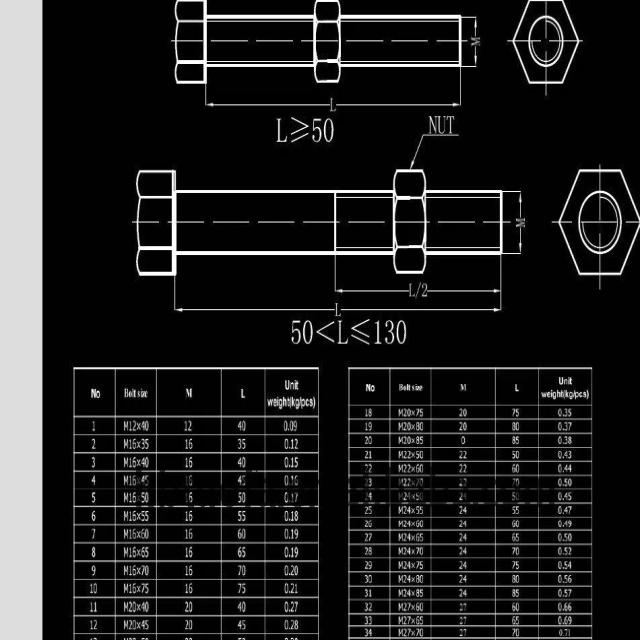marking_line: (173, 278, 505, 313), (204, 83, 463, 108), (333, 275, 505, 300), (503, 185, 526, 257), (462, 15, 479, 68)
numeric: (336, 320, 348, 346), (323, 118, 336, 142), (397, 319, 409, 345), (310, 116, 322, 141), (385, 317, 396, 344), (276, 118, 287, 144), (303, 318, 314, 344), (292, 318, 300, 346), (428, 114, 438, 134), (374, 320, 381, 346), (437, 113, 445, 135), (448, 116, 456, 134), (470, 37, 482, 46), (90, 473, 97, 487), (90, 456, 97, 469), (293, 492, 299, 504), (188, 545, 193, 559), (237, 545, 242, 559), (91, 419, 96, 432), (91, 491, 96, 504), (132, 546, 137, 559), (132, 564, 137, 577), (184, 474, 189, 487), (242, 564, 247, 577), (237, 601, 242, 614), (284, 564, 289, 577), (284, 438, 289, 450), (294, 438, 299, 450), (93, 583, 98, 595), (237, 511, 242, 523), (284, 492, 289, 504), (294, 475, 299, 487), (284, 528, 289, 540), (284, 546, 289, 558), (294, 546, 299, 558), (284, 582, 289, 594), (294, 601, 299, 613), (363, 464, 369, 474), (460, 435, 466, 445), (237, 438, 242, 449), (92, 439, 97, 450), (91, 511, 96, 522), (91, 529, 96, 540), (91, 565, 96, 576), (93, 620, 98, 631), (145, 528, 150, 539), (141, 565, 146, 576), (189, 529, 194, 540), (242, 528, 247, 539), (237, 583, 242, 594), (284, 602, 289, 613), (515, 463, 520, 474), (241, 621, 247, 630), (557, 492, 563, 501), (294, 456, 298, 469), (92, 545, 96, 558), (133, 509, 137, 522), (185, 509, 189, 522), (242, 600, 246, 613), (132, 420, 137, 430), (242, 439, 247, 449), (132, 528, 137, 538), (237, 620, 242, 630), (294, 565, 299, 575), (283, 620, 288, 630), (294, 620, 299, 630), (368, 422, 373, 432), (368, 602, 373, 612), (419, 463, 424, 473), (463, 464, 468, 474), (463, 546, 468, 556), (463, 574, 468, 584), (511, 506, 516, 516), (289, 420, 293, 432), (189, 457, 193, 469), (132, 457, 136, 469), (145, 456, 149, 468), (89, 601, 93, 613), (132, 492, 136, 504), (141, 547, 145, 559), (145, 564, 149, 576), (145, 601, 149, 613), (129, 600, 133, 612), (185, 564, 189, 576), (189, 491, 193, 503), (189, 510, 193, 522), (189, 564, 193, 576), (189, 582, 193, 594), (189, 601, 193, 613), (242, 475, 246, 487), (238, 492, 242, 504), (242, 492, 246, 504), (242, 510, 246, 522), (238, 528, 242, 540), (242, 547, 246, 559), (295, 510, 299, 522), (294, 528, 298, 540), (368, 436, 373, 445), (419, 408, 424, 417), (403, 464, 408, 473), (419, 450, 424, 459), (419, 492, 424, 501), (419, 547, 424, 556), (419, 561, 424, 570), (458, 464, 463, 473), (458, 561, 463, 570), (458, 575, 463, 584), (515, 505, 520, 514), (515, 628, 520, 637), (128, 420, 132, 431), (146, 420, 150, 431), (238, 420, 242, 431), (242, 420, 246, 431), (284, 420, 288, 431), (133, 438, 137, 449), (141, 438, 145, 449), (189, 438, 193, 449), (238, 457, 242, 468), (242, 456, 246, 467), (284, 457, 288, 468), (185, 457, 189, 468), (141, 474, 145, 485), (145, 475, 149, 486), (129, 492, 133, 503), (141, 492, 145, 503), (145, 492, 149, 503), (141, 510, 145, 521), (145, 510, 149, 521), (141, 528, 145, 539), (133, 583, 137, 594), (145, 583, 149, 594), (132, 602, 136, 613), (185, 528, 189, 539), (185, 582, 189, 593), (185, 601, 189, 612), (189, 475, 193, 486), (189, 619, 193, 630), (238, 476, 242, 487), (237, 565, 241, 576), (242, 583, 246, 594), (285, 475, 289, 486), (285, 510, 289, 521), (290, 547, 294, 558), (290, 583, 294, 594), (290, 601, 294, 612), (364, 602, 368, 613), (512, 450, 516, 461), (141, 421, 145, 431), (188, 420, 192, 430), (145, 439, 149, 449), (290, 457, 294, 467), (128, 458, 132, 468), (141, 457, 145, 467), (132, 475, 136, 485), (145, 547, 149, 557), (141, 602, 145, 612), (145, 620, 149, 630), (185, 619, 189, 629), (290, 566, 294, 576), (290, 620, 294, 630), (368, 409, 373, 417), (368, 463, 372, 473), (364, 507, 369, 515), (369, 532, 373, 542), (368, 560, 372, 570), (364, 588, 368, 598), (403, 435, 407, 445), (416, 463, 420, 473), (419, 506, 424, 514), (407, 506, 412, 514), (403, 505, 407, 515), (419, 520, 424, 528), (420, 532, 424, 542), (416, 602, 420, 612), (420, 602, 424, 612), (407, 627, 411, 637), (459, 421, 463, 431), (463, 421, 467, 431), (459, 477, 463, 487), (464, 478, 468, 488), (459, 491, 463, 501), (459, 518, 463, 528), (459, 532, 463, 542), (512, 422, 516, 432), (512, 463, 516, 473), (516, 408, 520, 418), (516, 421, 520, 431), (558, 421, 562, 431), (564, 435, 568, 445), (568, 435, 572, 445), (558, 532, 562, 542), (568, 533, 573, 541), (558, 546, 562, 556), (512, 560, 516, 570), (512, 574, 516, 584), (564, 574, 568, 584), (512, 615, 516, 625), (558, 602, 562, 612), (564, 602, 568, 612), (568, 602, 572, 612), (185, 491, 188, 504), (129, 438, 132, 450), (185, 438, 188, 450), (129, 474, 132, 486), (129, 564, 132, 576), (185, 546, 188, 558), (291, 510, 294, 522), (291, 528, 294, 540), (364, 422, 368, 431), (365, 450, 369, 459), (364, 478, 368, 487), (368, 478, 372, 487), (364, 492, 368, 501), (368, 492, 372, 501), (364, 561, 368, 570), (364, 575, 368, 584), (364, 616, 368, 625), (364, 628, 368, 637), (407, 408, 411, 417), (403, 422, 407, 431), (407, 422, 411, 431), (416, 422, 420, 431), (420, 436, 424, 445), (407, 436, 411, 445), (403, 478, 407, 487), (403, 451, 407, 460), (407, 464, 411, 473), (407, 450, 411, 459), (416, 478, 420, 487), (416, 533, 420, 542), (403, 533, 407, 542), (407, 547, 411, 556), (407, 561, 411, 570), (403, 561, 407, 570), (407, 575, 411, 584), (420, 588, 424, 597), (416, 589, 420, 598), (403, 588, 407, 597), (403, 602, 407, 611), (407, 602, 411, 611), (420, 616, 424, 625), (416, 616, 420, 625), (403, 616, 407, 625), (403, 628, 407, 637), (420, 628, 424, 637), (463, 408, 467, 417), (463, 506, 467, 515), (464, 561, 468, 570), (459, 588, 463, 597), (464, 588, 468, 597), (463, 603, 467, 612), (459, 616, 463, 625), (463, 628, 467, 637), (512, 435, 516, 444), (516, 436, 520, 445), (516, 477, 520, 486), (558, 408, 562, 417), (569, 408, 573, 417), (558, 436, 562, 445), (564, 422, 568, 431), (568, 422, 572, 431), (558, 450, 562, 459), (558, 464, 562, 473), (558, 478, 562, 487), (558, 506, 562, 515), (564, 464, 568, 473), (568, 464, 572, 473), (564, 478, 568, 487), (568, 478, 572, 487), (568, 492, 572, 501), (564, 506, 568, 515), (568, 505, 572, 514), (516, 519, 520, 528), (515, 533, 519, 542), (564, 533, 568, 542), (516, 561, 520, 570), (564, 561, 568, 570), (558, 575, 562, 584), (516, 588, 520, 597), (558, 589, 562, 598), (568, 588, 572, 597), (516, 602, 520, 611), (558, 616, 562, 625), (564, 616, 568, 625), (568, 616, 572, 625), (568, 520, 573, 527), (184, 420, 187, 431), (294, 420, 297, 431), (129, 511, 132, 522), (129, 619, 132, 630), (291, 475, 294, 486), (291, 492, 294, 503), (295, 583, 298, 594), (513, 478, 516, 489), (368, 520, 372, 528), (369, 575, 373, 583), (369, 616, 373, 624), (369, 628, 373, 636), (403, 409, 407, 417), (416, 409, 420, 417), (408, 479, 412, 487), (420, 478, 424, 486), (403, 492, 407, 500), (407, 492, 411, 500), (403, 519, 407, 527), (407, 520, 411, 528), (416, 520, 420, 528), (407, 533, 411, 541), (403, 547, 407, 555), (416, 547, 420, 555), (403, 575, 407, 583), (420, 575, 424, 583), (407, 589, 411, 597), (407, 616, 411, 624), (459, 451, 463, 459), (463, 520, 467, 528), (464, 533, 468, 541), (459, 547, 463, 555), (459, 604, 463, 612), (459, 629, 463, 637), (512, 492, 516, 500), (516, 451, 520, 459), (568, 451, 572, 459), (564, 547, 568, 555), (569, 547, 573, 555), (558, 561, 562, 569), (568, 561, 572, 569), (564, 589, 568, 597), (559, 629, 563, 637), (291, 439, 294, 449), (129, 529, 132, 539), (129, 547, 132, 557), (129, 584, 132, 594), (142, 583, 145, 593), (133, 620, 136, 630), (141, 620, 144, 630), (369, 450, 372, 460), (369, 505, 372, 515), (416, 450, 419, 460), (459, 408, 462, 418), (464, 491, 467, 501), (565, 491, 568, 501), (512, 546, 515, 556), (512, 602, 515, 612), (365, 520, 369, 527), (558, 520, 562, 527), (90, 584, 93, 593), (365, 409, 368, 418), (365, 436, 368, 445), (365, 533, 368, 542), (369, 547, 372, 556), (369, 589, 372, 598), (420, 422, 423, 431), (416, 492, 419, 501), (417, 506, 420, 515), (416, 561, 419, 570), (416, 575, 419, 584), (416, 628, 419, 637), (464, 451, 467, 460), (459, 505, 462, 514), (463, 616, 466, 625), (512, 408, 515, 417), (516, 492, 519, 501), (564, 408, 567, 417), (565, 450, 568, 459), (512, 533, 515, 542), (516, 547, 519, 556), (516, 575, 519, 584), (513, 588, 516, 597), (516, 616, 519, 625), (512, 628, 515, 637), (90, 618, 92, 631), (94, 602, 96, 614), (365, 548, 368, 556), (416, 436, 419, 444), (512, 520, 515, 528), (569, 575, 572, 583), (564, 628, 567, 636), (568, 629, 571, 637), (564, 520, 567, 527), (93, 637, 98, 640), (89, 637, 93, 640)
special_symbol: (288, 116, 309, 143)
